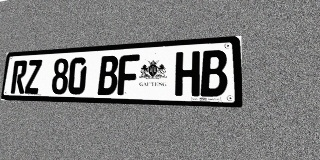0: (67, 57, 87, 95)
8: (51, 58, 70, 94)
B: (200, 49, 227, 97), (97, 55, 119, 95)
F: (117, 54, 140, 95)
H: (175, 51, 200, 96)
R: (10, 60, 28, 94)
Z: (24, 59, 42, 94)
